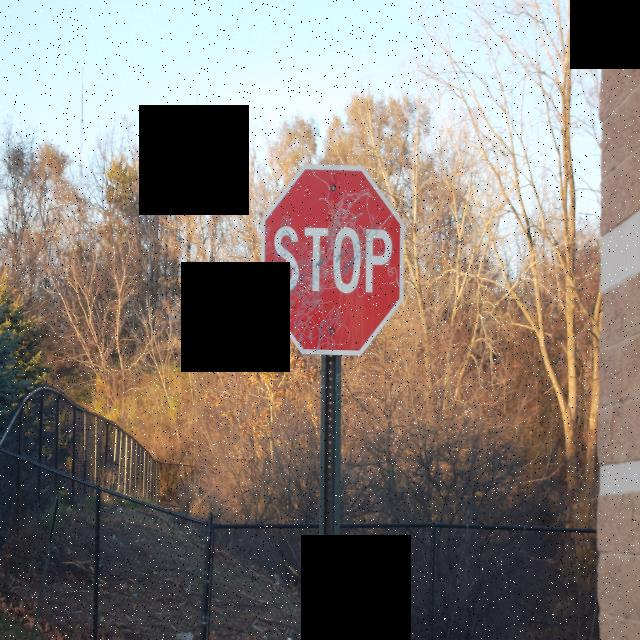stop: (256, 160, 412, 363)
